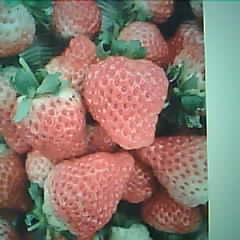straw-ripe: (83, 57, 168, 149), (45, 151, 134, 237), (142, 132, 209, 206), (17, 92, 85, 160)
